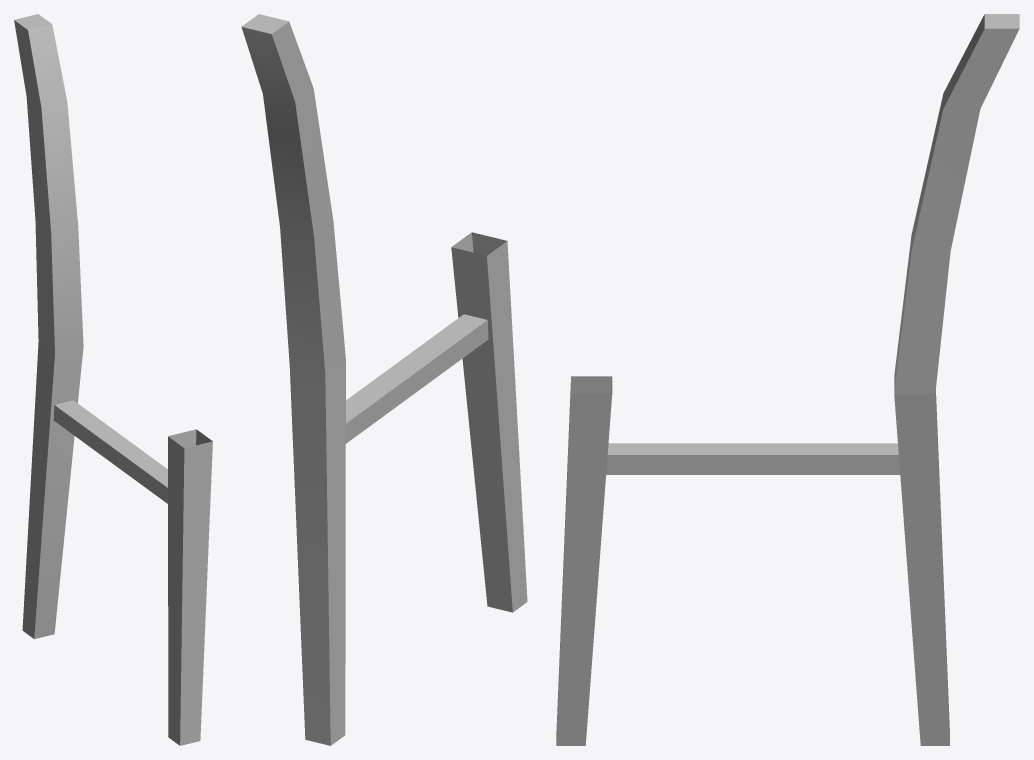
The model's file is Itr_Chair3_Leg_Left_06.FBX.
The picture shows the model from 3 angles, left to right: view 1: azimuth 30°, elevation 25°; view 2: azimuth 150°, elevation 25°; view 3: azimuth 270°, elevation 25°; orthographic projection. The views are drawn at different scales.
Visible parts, largest first — view 1: Itr_Chair3_Leg_Left_06; view 2: Itr_Chair3_Leg_Left_06; view 3: Itr_Chair3_Leg_Left_06.
Part boxes in pixels (bbox=[...]): Itr_Chair3_Leg_Left_06: bbox=[14, 14, 212, 745]; Itr_Chair3_Leg_Left_06: bbox=[241, 14, 527, 745]; Itr_Chair3_Leg_Left_06: bbox=[556, 14, 1019, 745].
Size of the model in its own units: 3.08 by 39.55 by 22.7.
